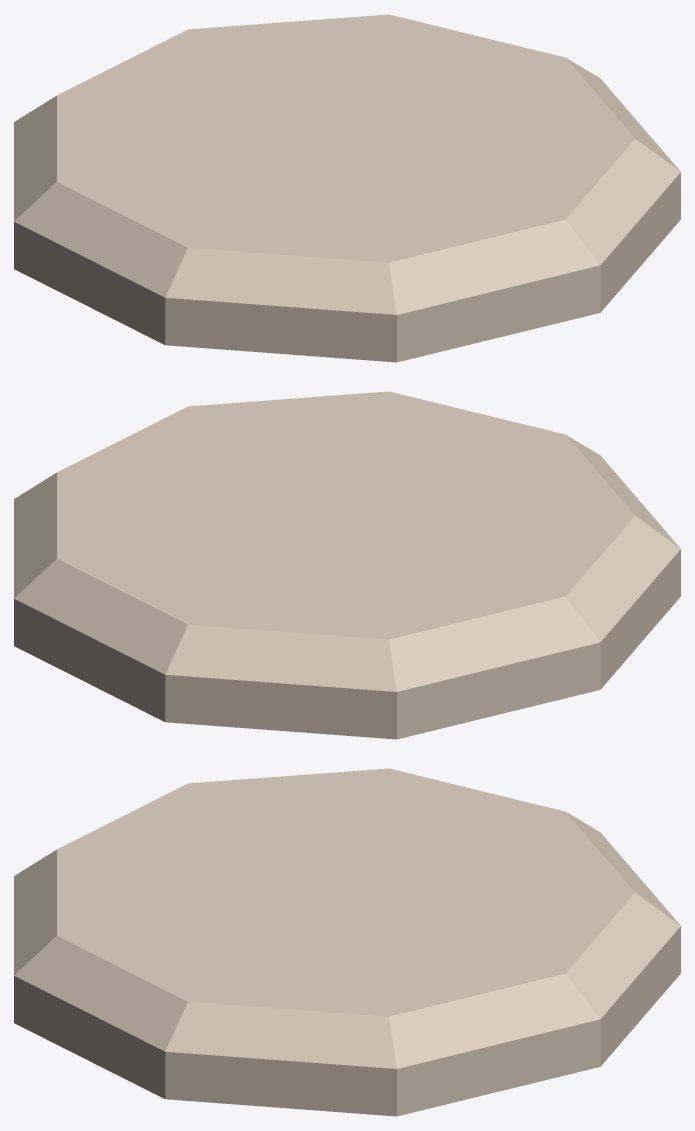
Rendered from ground_light.fbx.
The picture shows the model from 3 angles, top to bottom: view 1: azimuth 30°, elevation 25°; view 2: azimuth 150°, elevation 25°; view 3: azimuth 270°, elevation 25°; orthographic projection.
Visible parts, largest first — view 1: 圆环; view 2: 圆环; view 3: 圆环.
Boxes of the visible parts, left/top/right/bottom form: 圆环: left=14, top=14, right=680, bottom=362; 圆环: left=14, top=391, right=680, bottom=739; 圆环: left=14, top=768, right=680, bottom=1116.
Bounding box in the file's own units: 197 × 25.95 × 194.
